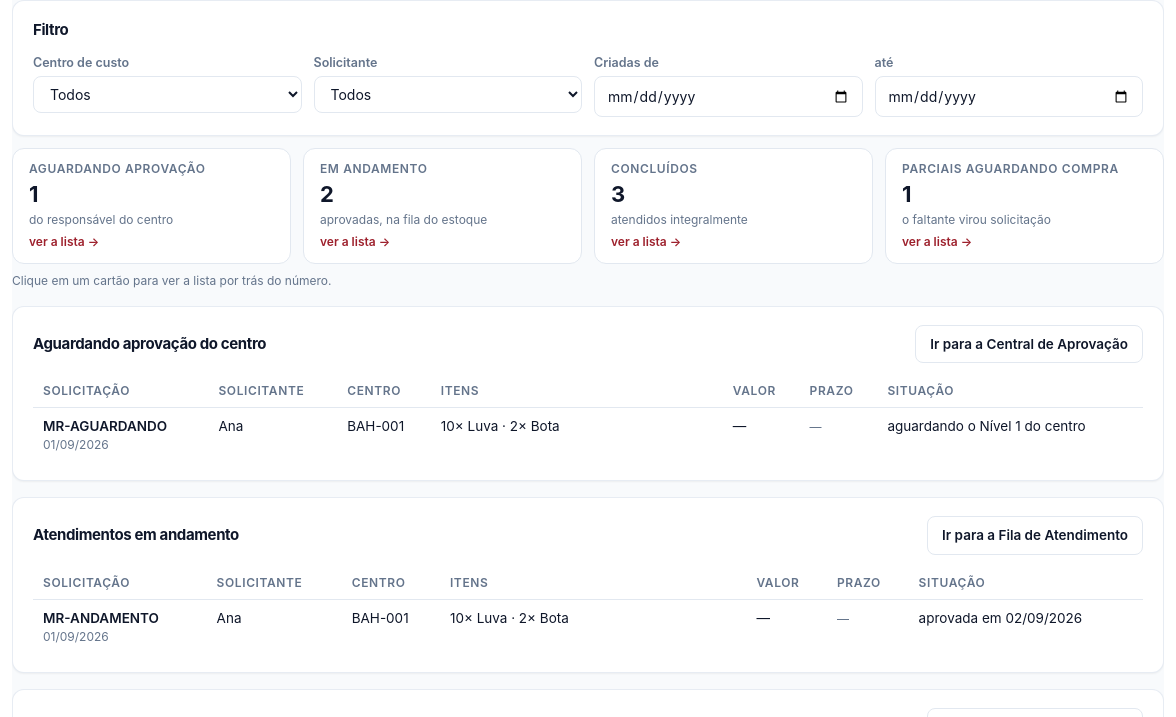
Test: o filtro do painel › a data de criação também recorta, e as duas pontas somam no contador
Expected: the table with test id "painel-aguardando" is shown, top-left (33, 375), bottom-right (1143, 462)
Type "2026-09-01" into the date field labelled "Criadas de" at [728, 97], box top-left (594, 76), bottom-right (862, 117)
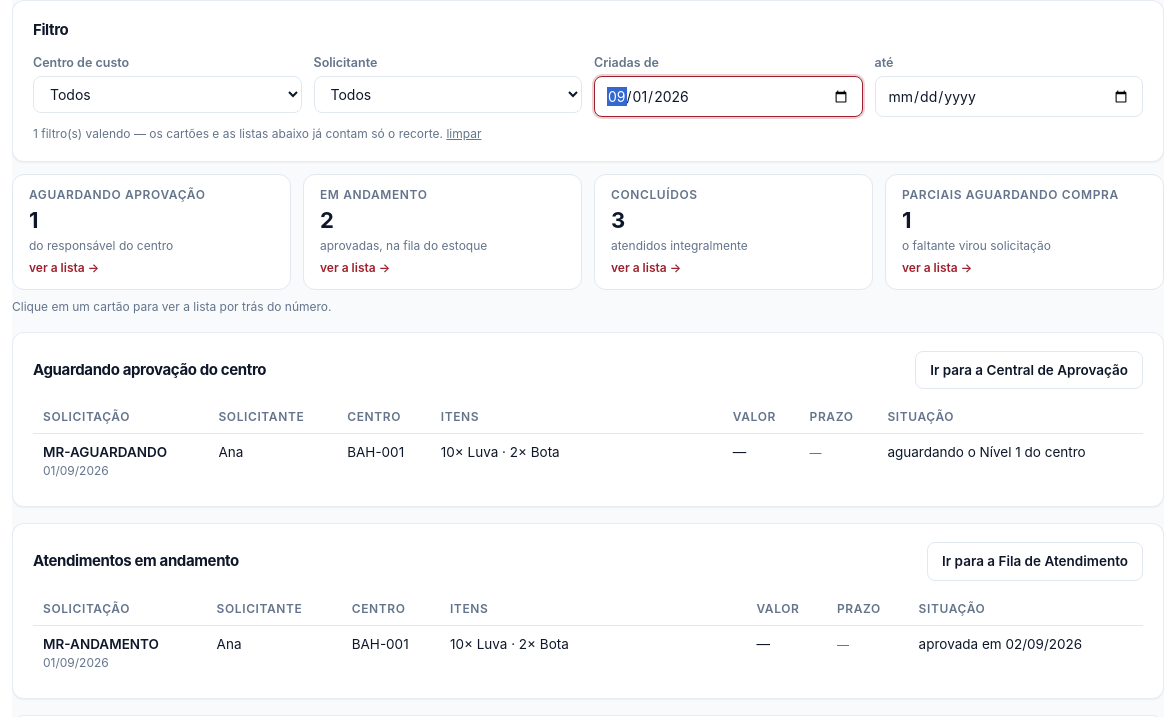
Type "2026-09-30" into the date field labelled "até" at [1009, 97], box top-left (874, 76), bottom-right (1143, 117)
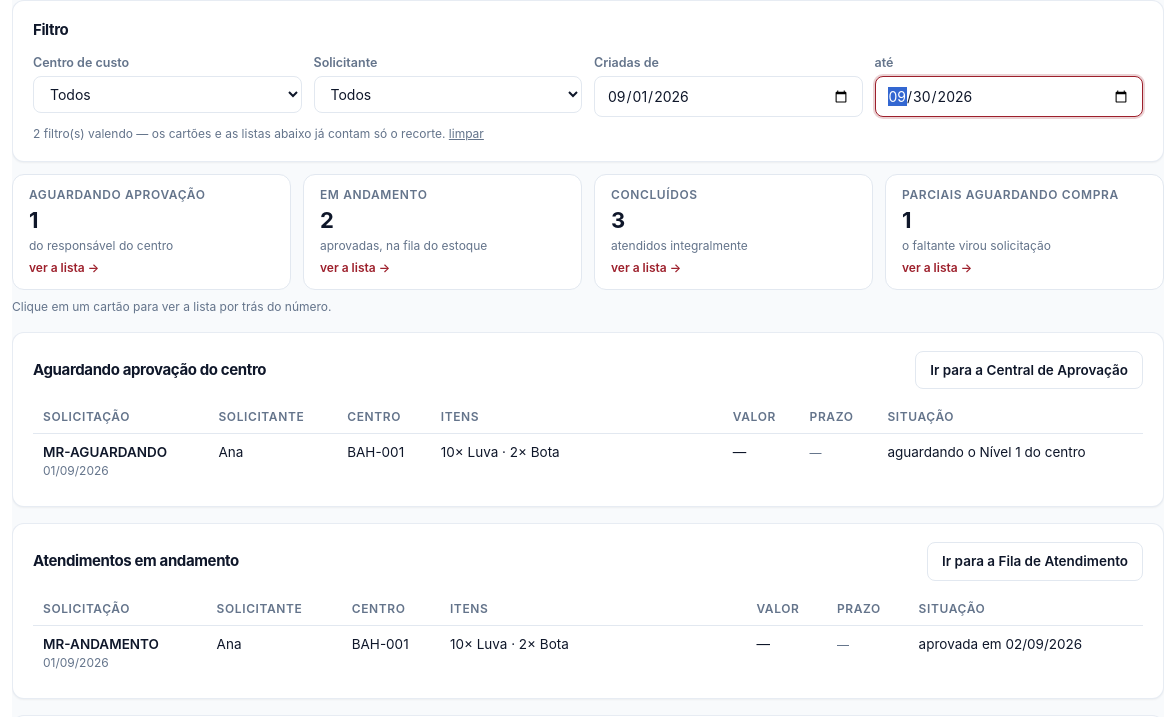
Expected: the text "2 filtro(s) valendo" is shown, top-left (33, 125), bottom-right (484, 143)
